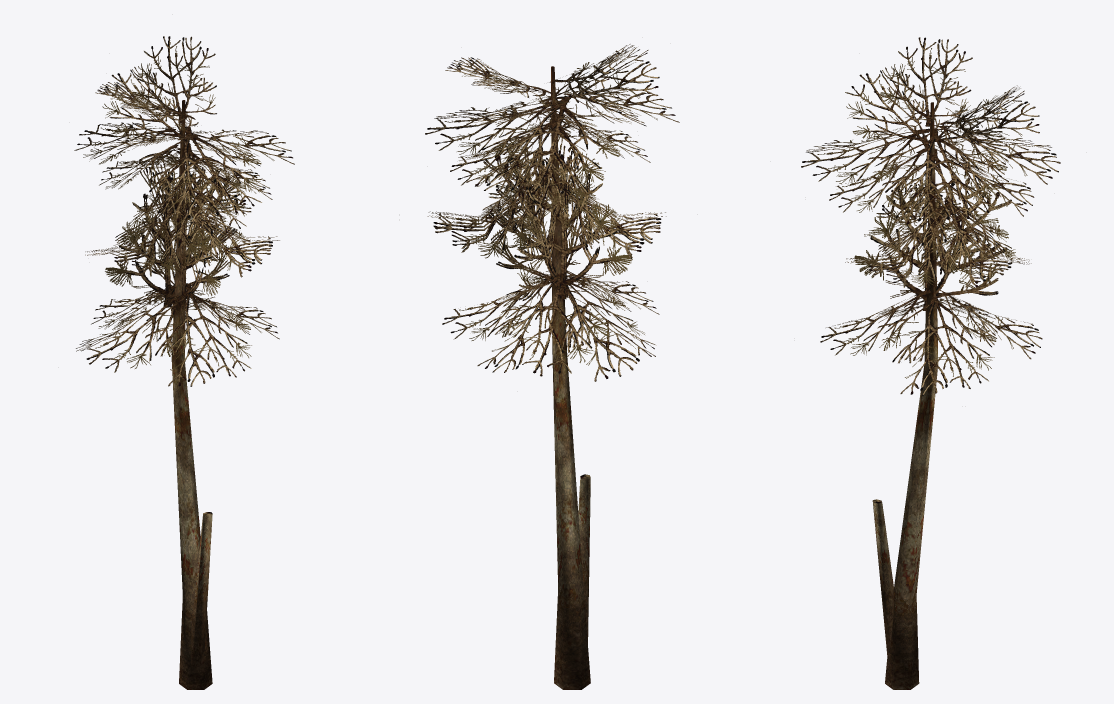
The model's file is flora_tree_pine_black_dead_v3.glb.
3 views of the same model, side by side, from view 1: azimuth 30°, elevation 25°; view 2: azimuth 150°, elevation 25°; view 3: azimuth 270°, elevation 25° (orthographic). The views are drawn at different scales.
Visible parts, largest first — view 1: flora_tree_pine_black_dead_v3_part0; view 2: flora_tree_pine_black_dead_v3_part0; view 3: flora_tree_pine_black_dead_v3_part0.
Part boxes in pixels (x1=…): flora_tree_pine_black_dead_v3_part0: x1=74, y1=36, x2=294, y2=689; flora_tree_pine_black_dead_v3_part0: x1=425, y1=44, x2=679, y2=689; flora_tree_pine_black_dead_v3_part0: x1=801, y1=37, x2=1060, y2=689.
Size of the model in its own units: 11.72 by 25.93 by 12.58.
1 material, 1 textured.
